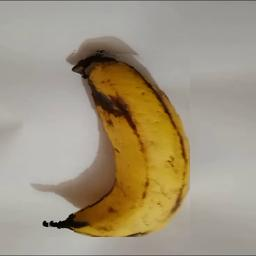Banana Semifresh: (41, 49, 191, 237)
